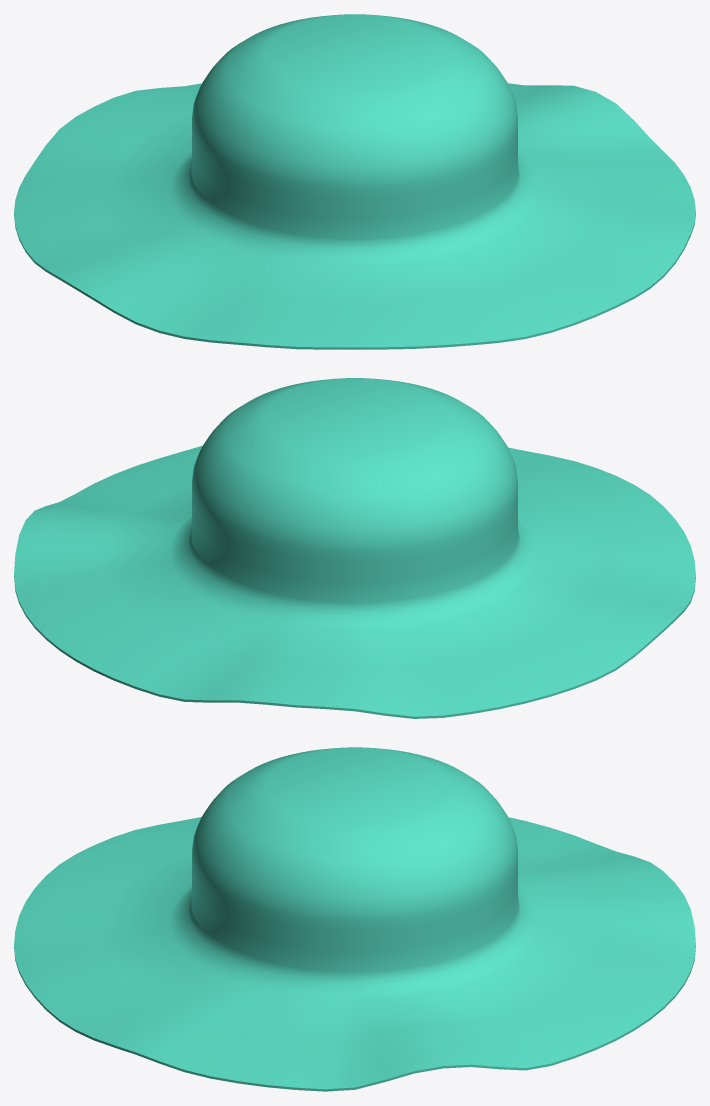
Rendered from hat2.obj.
3 views of the same model, one above another, from view 1: azimuth 30°, elevation 25°; view 2: azimuth 150°, elevation 25°; view 3: azimuth 270°, elevation 25° (orthographic).
Visible parts, largest first — view 1: Layer0_001; view 2: Layer0_001; view 3: Layer0_001.
Boxes of the visible parts, x1,y1,x2,y2 form: Layer0_001: (14,14,695,349); Layer0_001: (14,378,695,718); Layer0_001: (14,747,695,1091).
Size of the model in its own units: 20.93 by 5.56 by 20.93.
